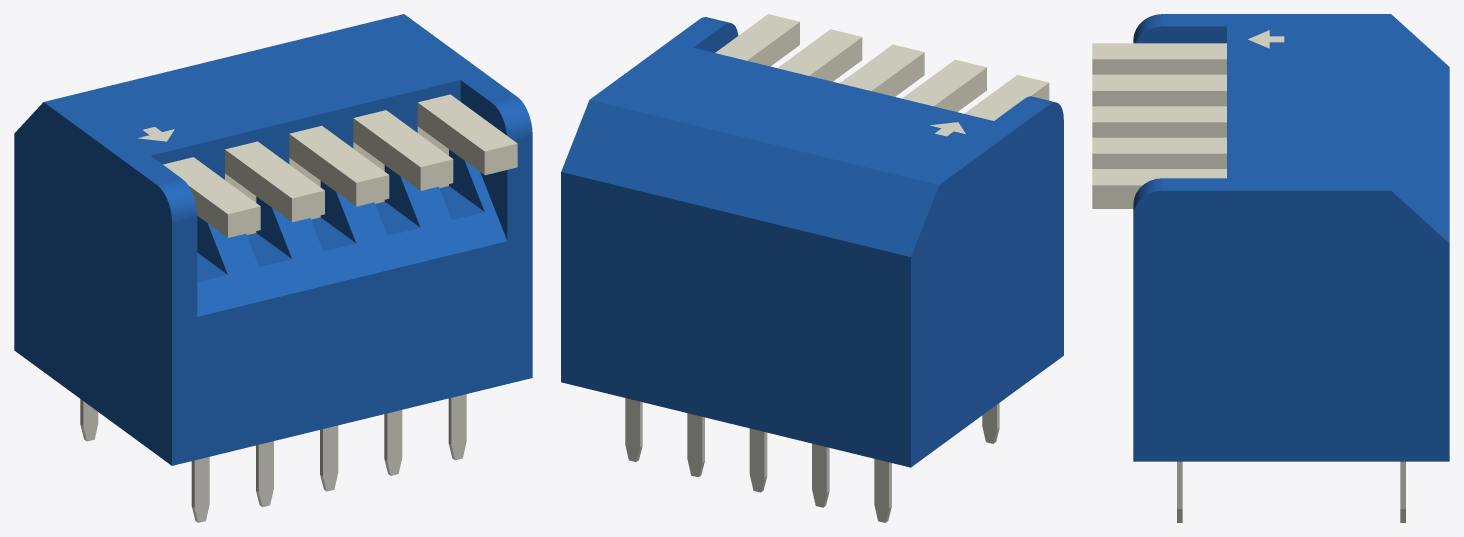
Rendered from kc-sw_dip_spstx05_piano_10.8x14.26mm_w7.62mm_p2.54mm.glb.
3 views of the same model, side by side, from view 1: azimuth 30°, elevation 25°; view 2: azimuth 150°, elevation 25°; view 3: azimuth 270°, elevation 25° (orthographic). The views are drawn at different scales.
Visible parts, largest first — view 1: 0_0.16666666666666666_0.5_0, 0.75_0.75_0.6666666666666666_0, 0.6666666666666666_0.6666666666666666_0.5833333333333334_0.8; view 2: 0_0.16666666666666666_0.5_0, 0.75_0.75_0.6666666666666666_0, 0.6666666666666666_0.6666666666666666_0.5833333333333334_0.8; view 3: 0_0.16666666666666666_0.5_0, 0.75_0.75_0.6666666666666666_0, 0.6666666666666666_0.6666666666666666_0.5833333333333334_0.8.
Part boxes in pixels (x1=…): 0_0.16666666666666666_0.5_0: x1=14, y1=14, x2=532, y2=465; 0.75_0.75_0.6666666666666666_0: x1=138, y1=94, x2=517, y2=237; 0.6666666666666666_0.6666666666666666_0.5833333333333334_0.8: x1=80, y1=394, x2=466, y2=522; 0_0.16666666666666666_0.5_0: x1=561, y1=17, x2=1063, y2=467; 0.75_0.75_0.6666666666666666_0: x1=715, y1=14, x2=1049, y2=136; 0.6666666666666666_0.6666666666666666_0.5833333333333334_0.8: x1=625, y1=398, x2=999, y2=522; 0_0.16666666666666666_0.5_0: x1=1133, y1=14, x2=1449, y2=461; 0.75_0.75_0.6666666666666666_0: x1=1092, y1=30, x2=1284, y2=208; 0.6666666666666666_0.6666666666666666_0.5833333333333334_0.8: x1=1177, y1=461, x2=1405, y2=522.
Size of the model in its own units: 1.43 by 1.34 by 1.22.
